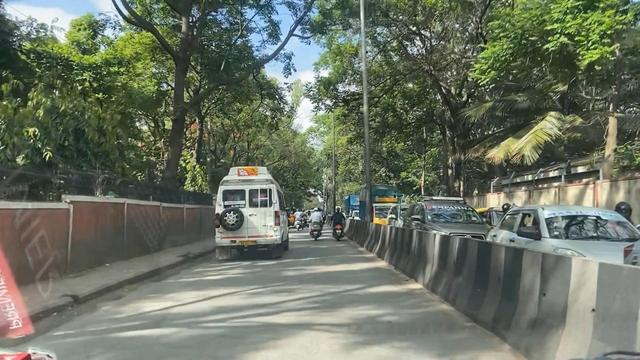HMV: (213, 166, 283, 257)
LMV: (330, 204, 347, 240), (310, 207, 324, 238)
